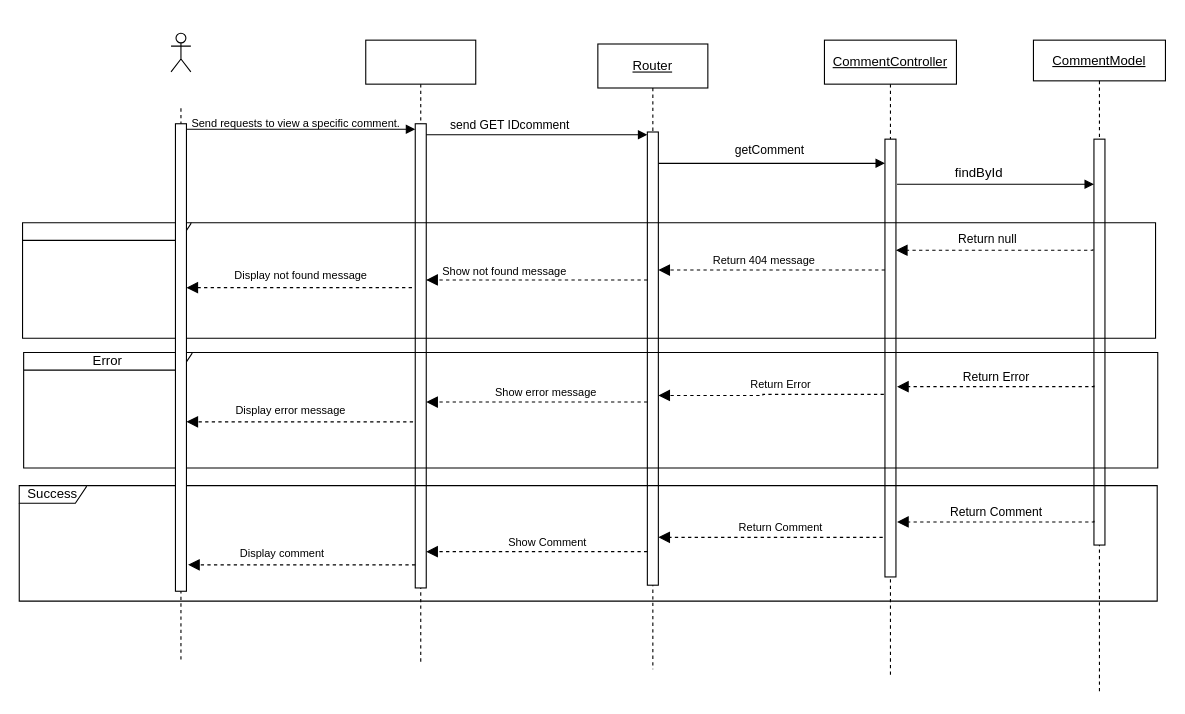
Some shapes in this 1185 by 714 pixel diagram are drawn without their labels. The shapes that lost their labels are listed below. From the top down, each one's box as (x1, y1, x2, y2) in pixels, then its label:
(170, 32, 191, 72): User
(21, 222, 1156, 338): Comment not found
(365, 39, 476, 663): React App
